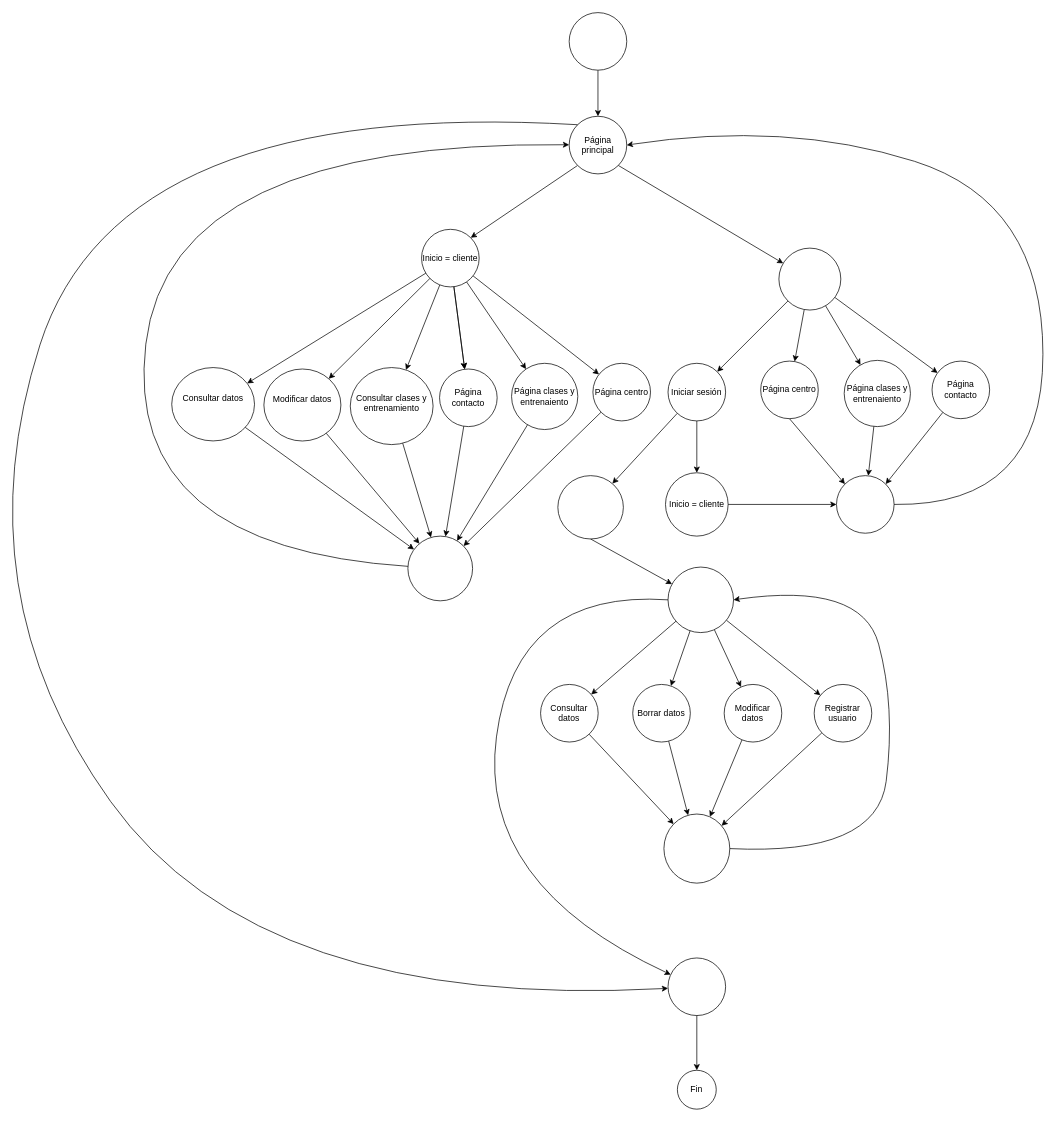
Image size: 1056x1122. Some labels were removed from this diagram. Here are the shapes that lost their labels. From the top down, the centre of each, then its label:
At pixel 597 41: "Inicio".
At pixel 809 278: "Inicio = usuario".
At pixel 590 507: "Inicio = Administrador".
At pixel 865 504: "Volver a inicio".
At pixel 440 568: "Volver al inicio".
At pixel 700 599: "Página de administrador".
At pixel 696 848: "Volver a página adiministrador".
At pixel 696 986: "Cerrar sesion".
